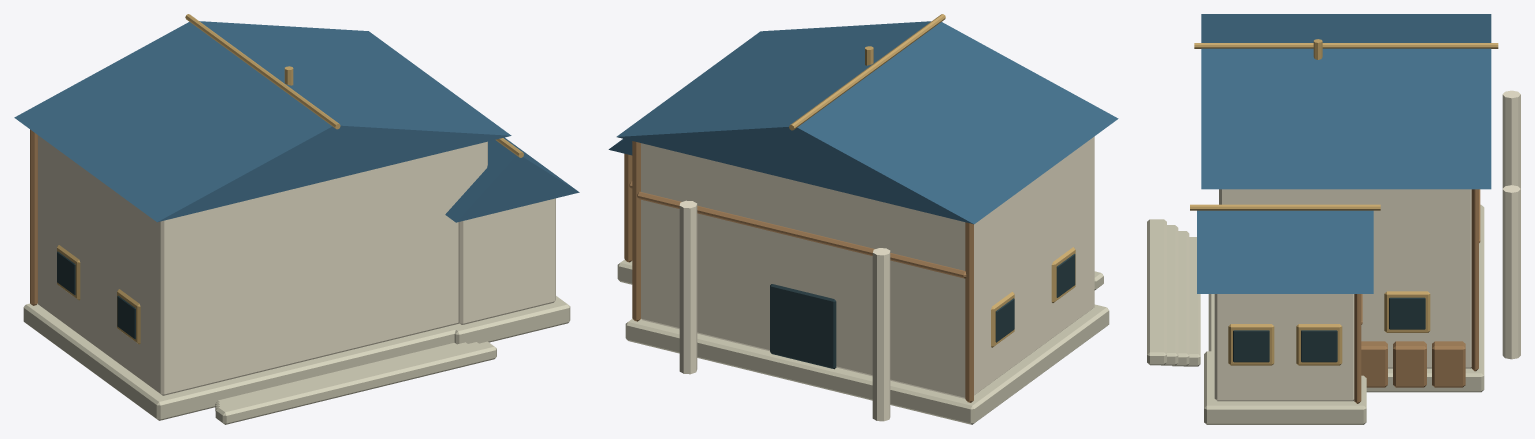
File: level_30.glb
3 views of the same model, side by side, from view 1: azimuth 30°, elevation 25°; view 2: azimuth 150°, elevation 25°; view 3: azimuth 270°, elevation 25° (orthographic).
Visible parts, largest first — view 1: warehouse — level 30; view 2: warehouse — level 30; view 3: warehouse — level 30.
Part boxes in pixels (x1,y1,x2,y2): warehouse — level 30: (14,14,579,424); warehouse — level 30: (608,14,1118,424); warehouse — level 30: (1147,14,1520,424).
Bounding box in the file's own units: 6.96 × 4.26 × 5.29.
